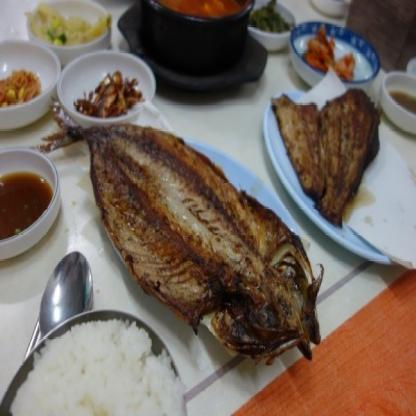Peixe: (67, 105, 320, 366), (282, 91, 386, 236)
